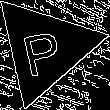P_N: (20, 20, 69, 77)
